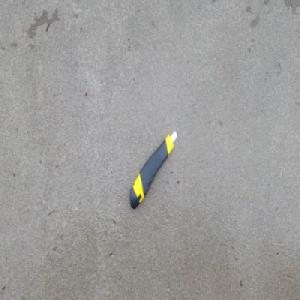Cutter: (128, 128, 178, 210)
